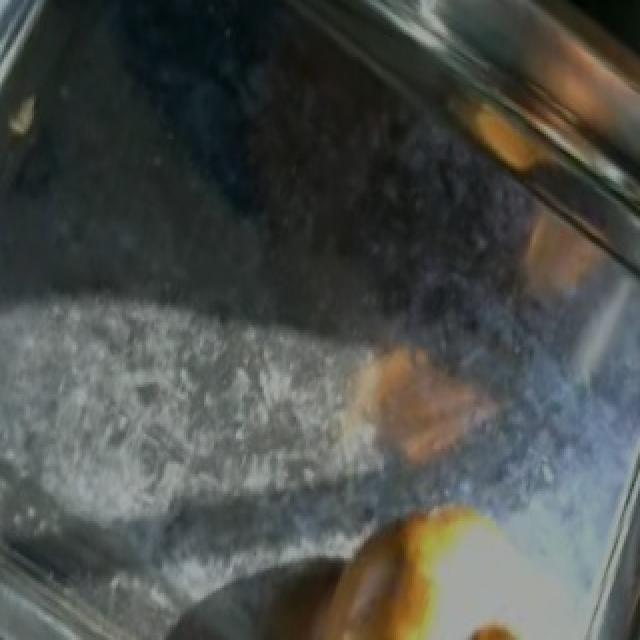fruit: (296, 474, 552, 640)
